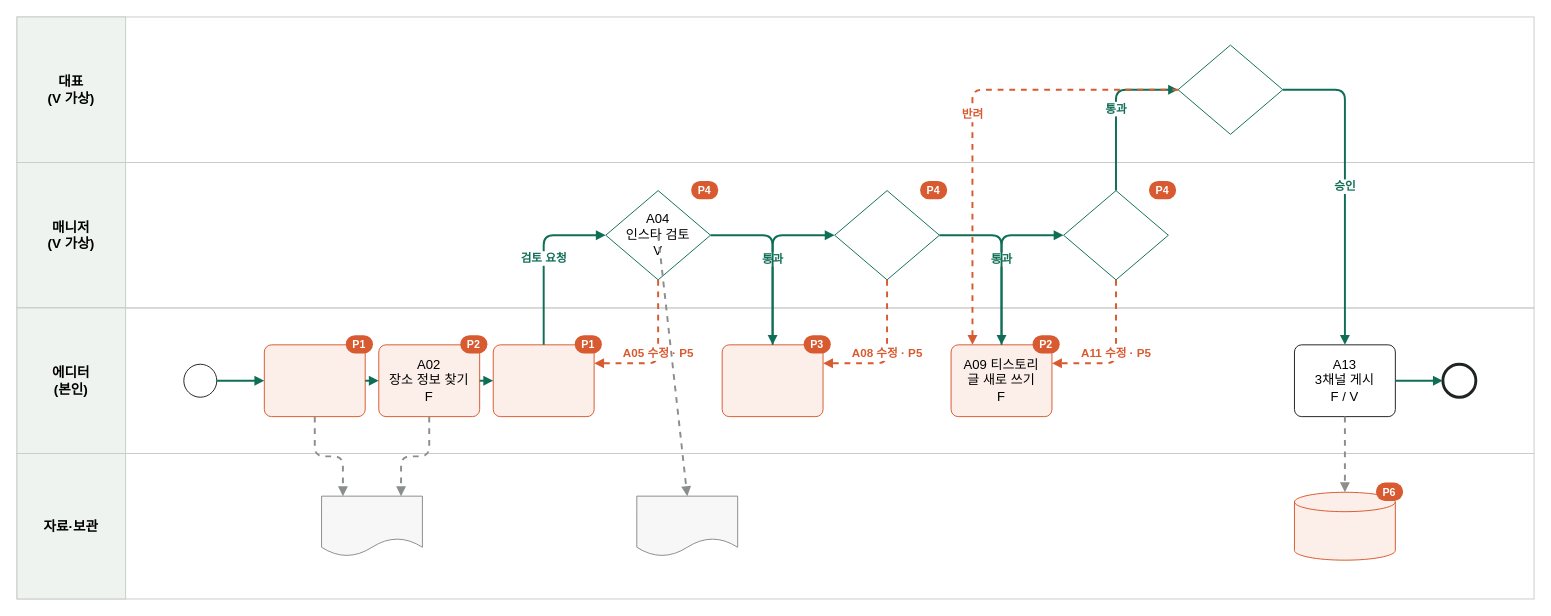
This 1551x616 diagram has some shape labels left out. Here are the shapes that lost their labels. From the top down, the box of each, then its label:
(1177, 44, 1283, 134): A12 최종 승인 V
(834, 190, 939, 280): A07 유튜브 검토 V
(1063, 190, 1168, 280): A10 티스토리 검토 V
(263, 344, 365, 417): A01 사진 고르기 F
(492, 344, 594, 417): A03 인스타 카드·캡션 수작업 F
(721, 344, 823, 417): A06 숏폼 직접 편집 V · 아직 못 함
(321, 495, 422, 556): 사진첩 · 지도·검색 메모
(636, 495, 738, 556): 메신저 피드백 (수정 요청)
(1293, 491, 1395, 560): A14 기록 없음 메신저·폴더
